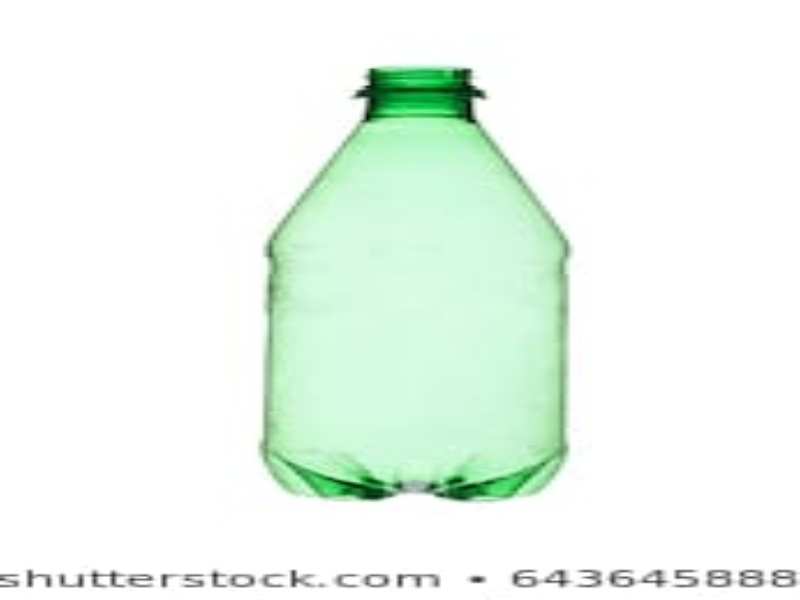plastic-bottle: (257, 63, 579, 503)
